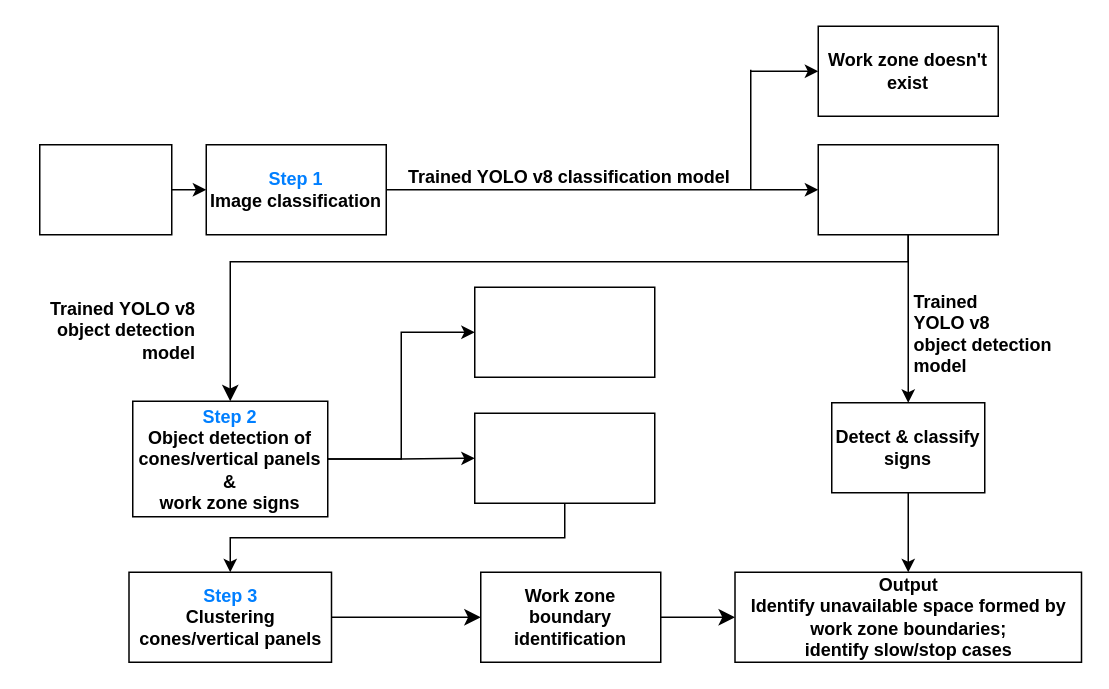
This 1109x689 diagram has some shape labels left out. Each missing label, with the centre of its shape:
"Cones/vertical panels don't exist" belongs at point (564, 331).
"Cones/vertical panels exist" belongs at point (564, 457).
"Input camera image" belongs at point (105, 189).
"Work zone exists" belongs at point (907, 189).
